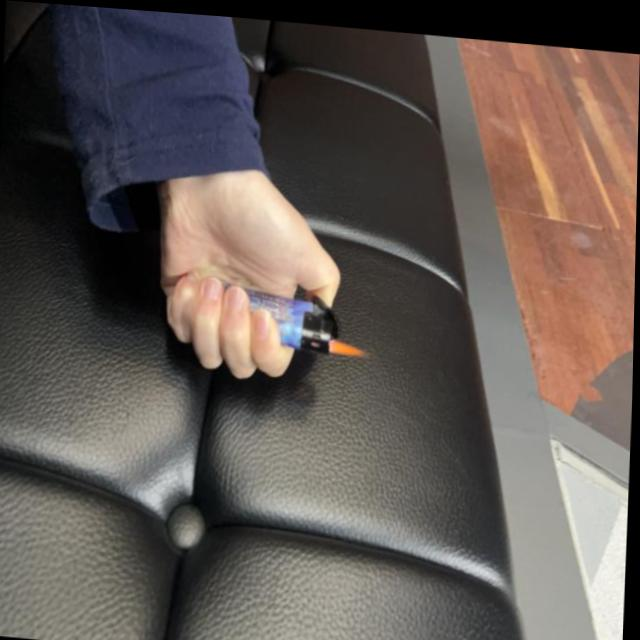Fire: (328, 329, 374, 353)
